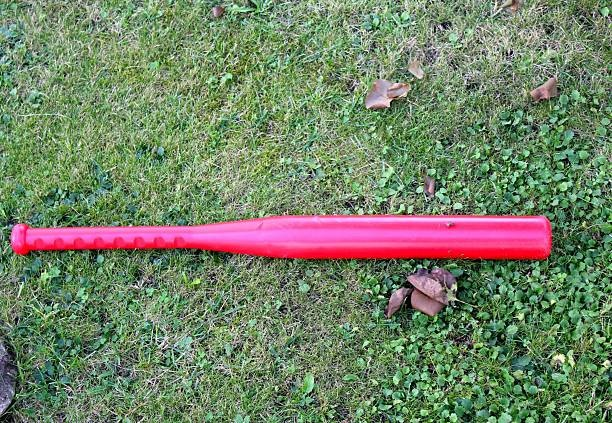bita: (10, 214, 553, 259)
